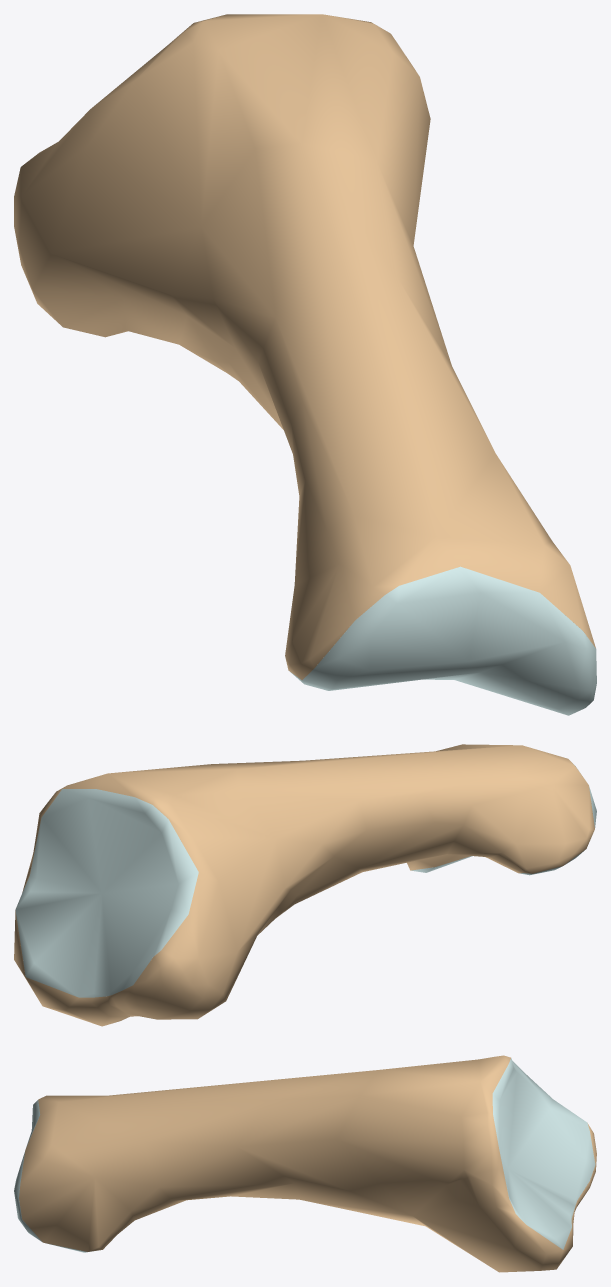
File: Phalanx_proximal_3rd_finger_foot_right.glb
The picture shows the model from 3 angles, top to bottom: view 1: azimuth 30°, elevation 25°; view 2: azimuth 150°, elevation 25°; view 3: azimuth 270°, elevation 25°; orthographic projection. The views are drawn at different scales.
Visible parts, largest first — view 1: Proximal_phalanx_of_3rd_finger_of_foot.r_Generated_Mesh_From; view 2: Proximal_phalanx_of_3rd_finger_of_foot.r_Generated_Mesh_From; view 3: Proximal_phalanx_of_3rd_finger_of_foot.r_Generated_Mesh_From.
Part boxes in pixels (box(x1,y1,x2,y2)): Proximal_phalanx_of_3rd_finger_of_foot.r_Generated_Mesh_From: box(14, 14, 596, 715); Proximal_phalanx_of_3rd_finger_of_foot.r_Generated_Mesh_From: box(14, 744, 596, 1026); Proximal_phalanx_of_3rd_finger_of_foot.r_Generated_Mesh_From: box(14, 1055, 596, 1272).
Size of the model in its own units: 0.0164 by 0.012 by 0.0302.
